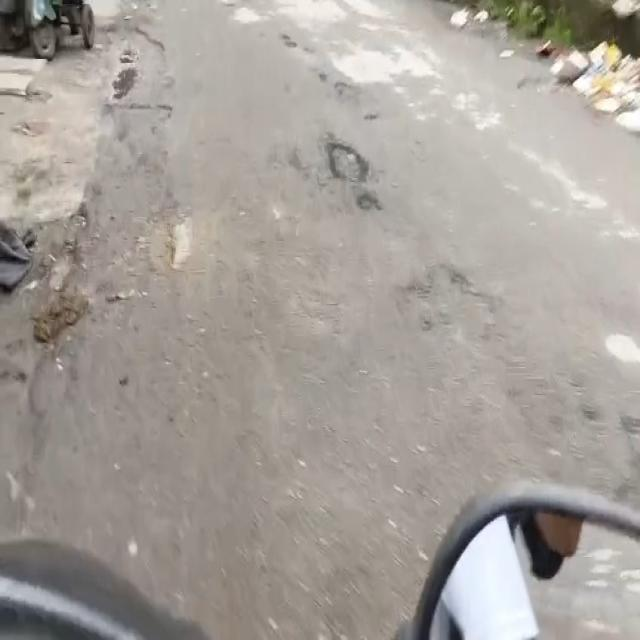road-pothole: (79, 27, 170, 249), (323, 139, 369, 194)
